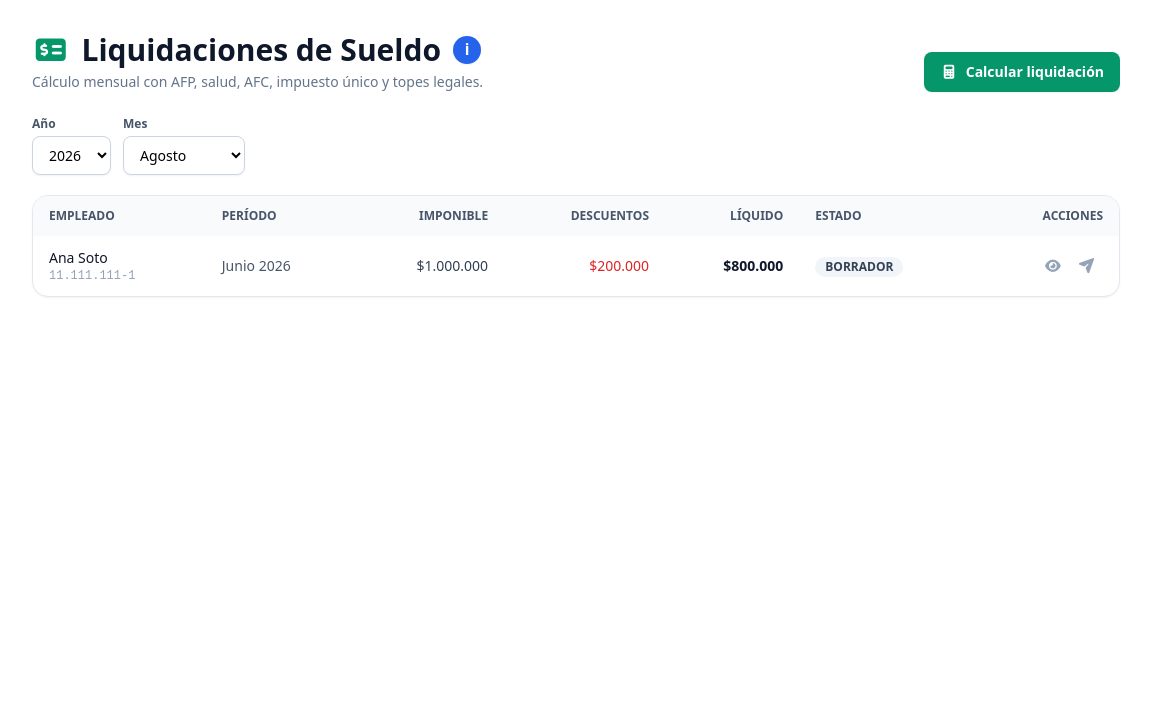
Test case: LiquidacionesRrhh › abre el modal de calculo
The width and height of the screenshot is (1152, 720).
expect the text "Ana Soto 11.111.111-1" is shown: met, box [33,236,206,296]
Click the button "Calcular liquidación": (1022, 72) [924,52,1120,92]
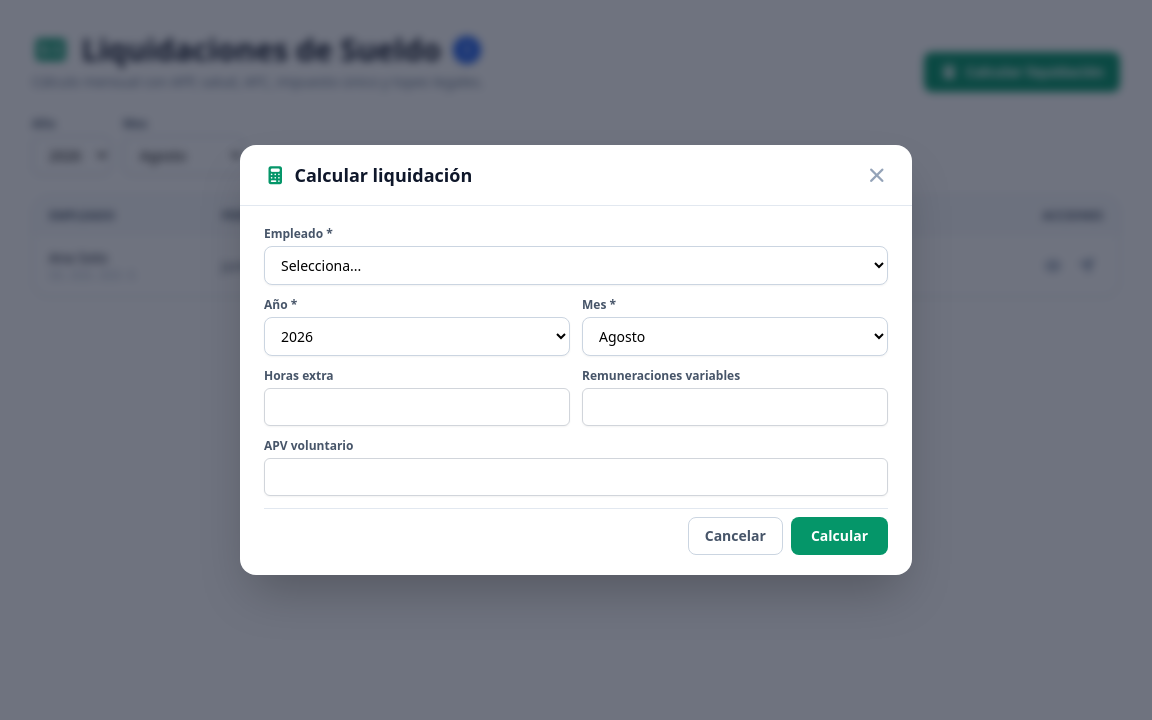
expect the text "Horas extra" is shown: met, box [264,367,334,384]
expect the text "APV voluntario" is shown: met, box [264,437,353,454]
